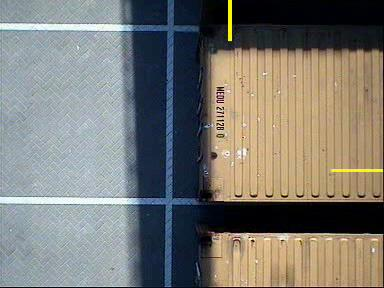groundmarker_2: (135, 42, 216, 114)
